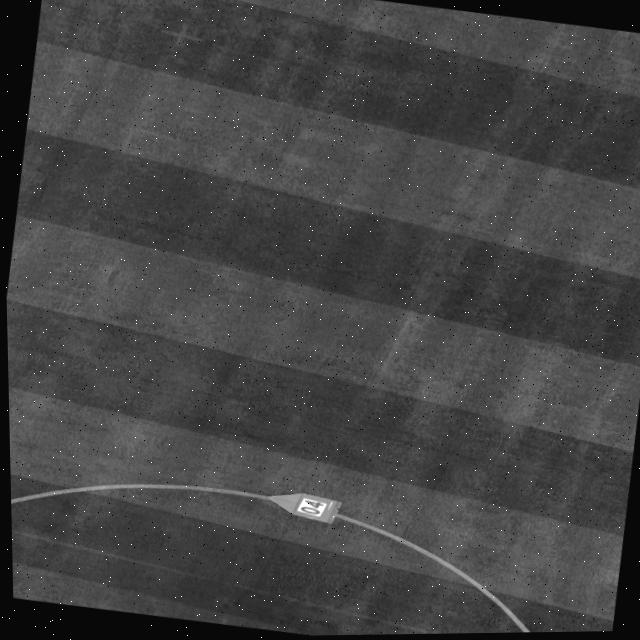board: (264, 492, 341, 525)
